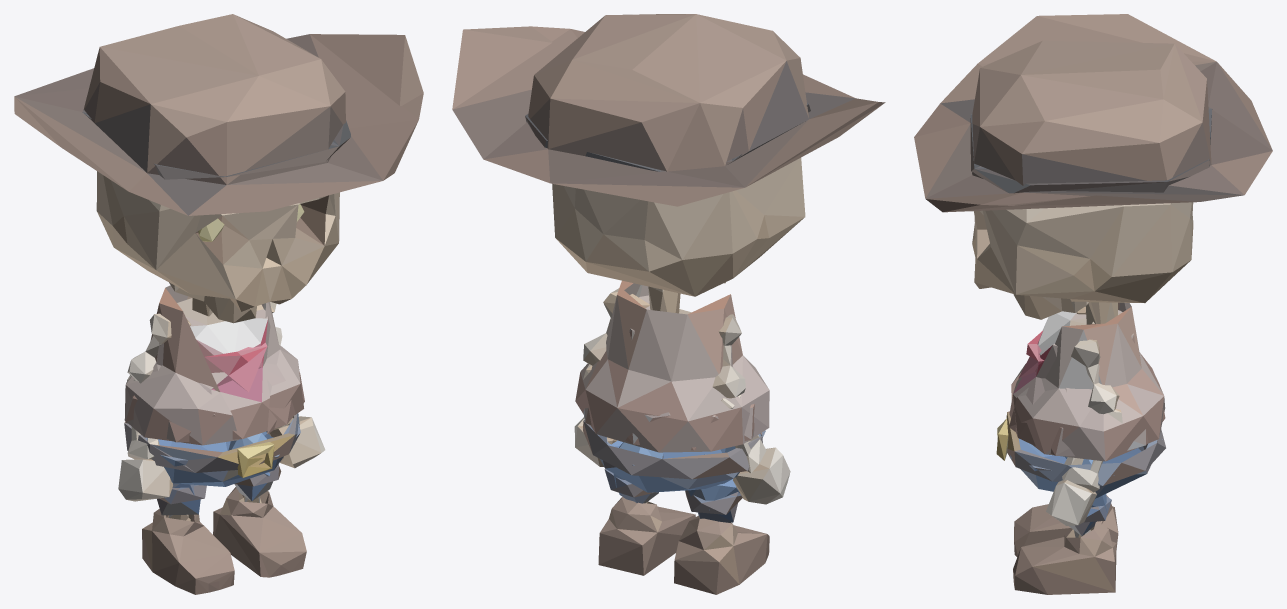
File: sk_Cowboy.obj
3 renders of one model, left to right at view 1: azimuth 30°, elevation 25°; view 2: azimuth 150°, elevation 25°; view 3: azimuth 270°, elevation 25°, orthographic. The views are drawn at different scales.
Visible parts, largest first — view 1: sk_Cowboy; view 2: sk_Cowboy; view 3: sk_Cowboy.
Part boxes in pixels (x1,y1,x2,y2): sk_Cowboy: [14, 14, 423, 594]; sk_Cowboy: [452, 14, 885, 594]; sk_Cowboy: [914, 14, 1272, 594].
Bounding box in the file's own units: 9.74 × 12.5 × 8.18.
